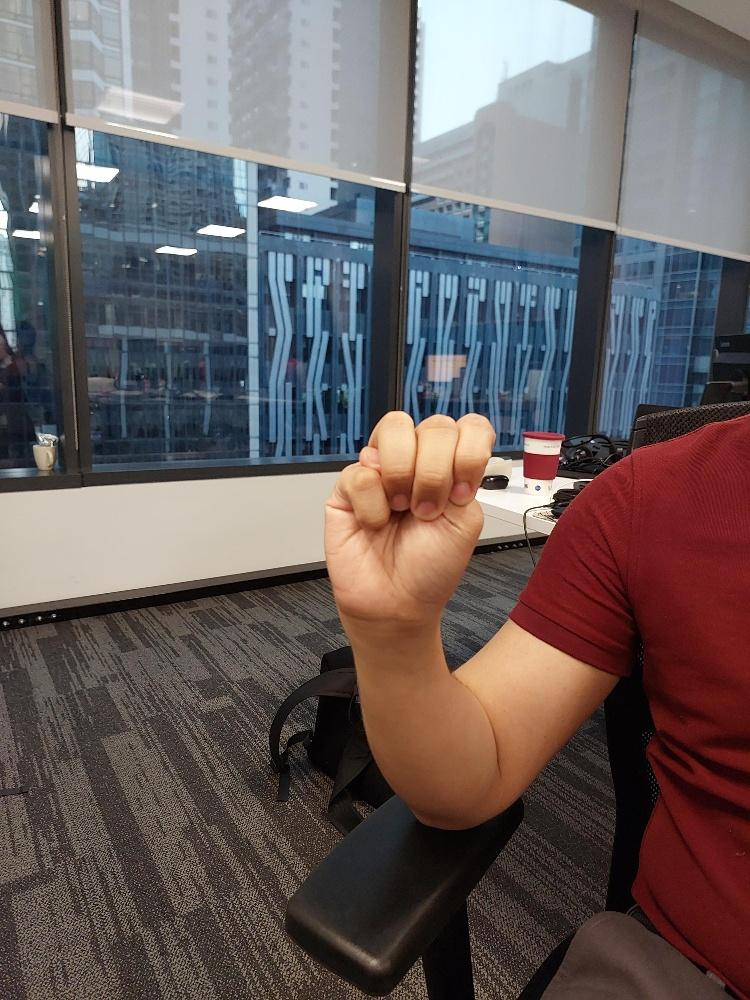m: (318, 405, 499, 638)
